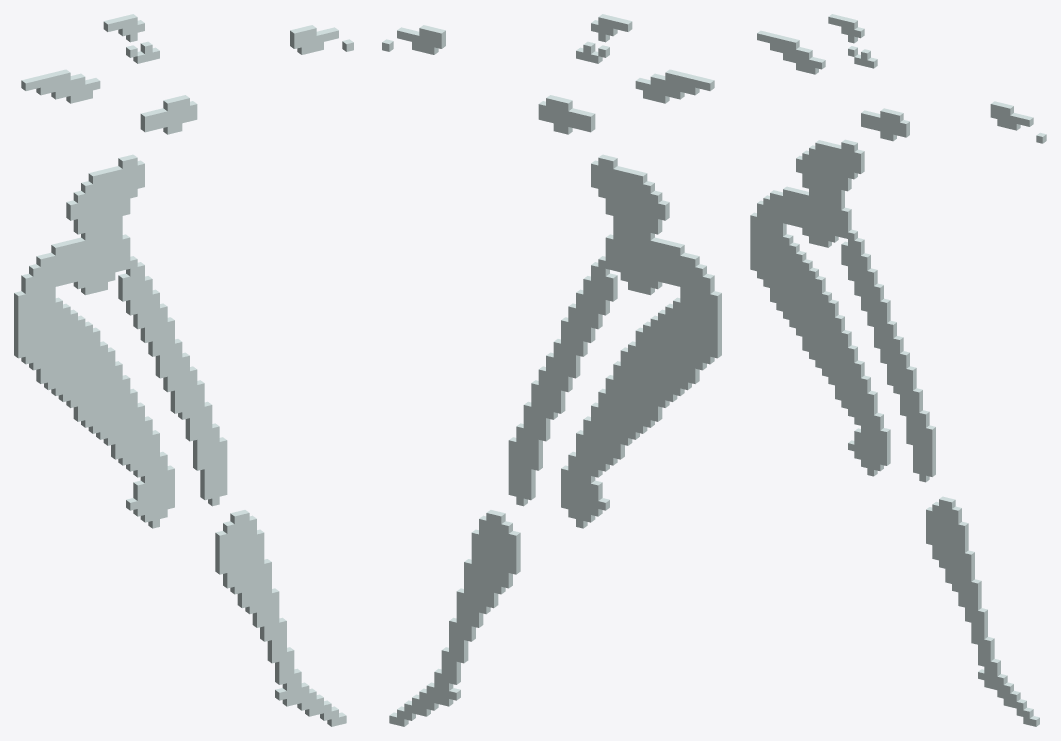
The model's file is Fight_754_2_09_fx.obj.
3 renders of one model, left to right at view 1: azimuth 30°, elevation 25°; view 2: azimuth 150°, elevation 25°; view 3: azimuth 330°, elevation 25°, orthographic. The views are drawn at different scales.
Size of the model in its own units: 4.5 by 9.7 by 0.1.
1 material, 1 textured.
